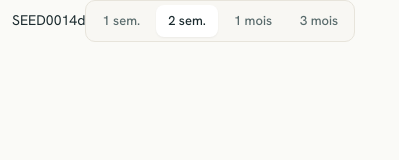
Test: usePeriodAnalytics + PeriodSelector (US-2634) › returns to the seed (no new fetch) when the period goes back to seedPeriod
Click the radio button labelled "3 mois": [319, 21] box [288, 5, 350, 37]
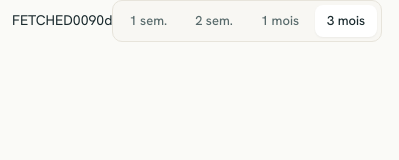
expect the text with test id "value" reads "FETCHED": met, box [12, 11, 73, 29]
Click the radio button labelled "2 sem.": [214, 21] box [183, 5, 245, 37]
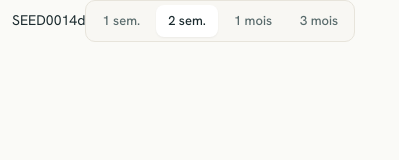
expect the text with test id "value" reads "SEED": met, box [12, 11, 46, 29]
